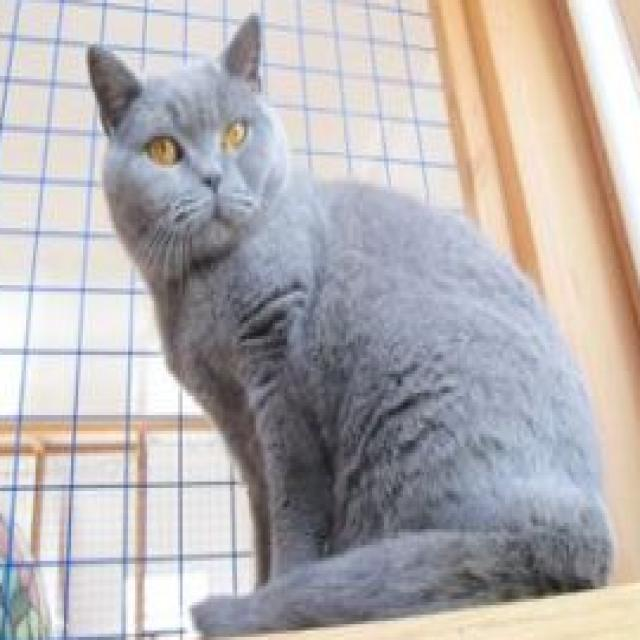British Shorthair: (83, 6, 616, 640)
